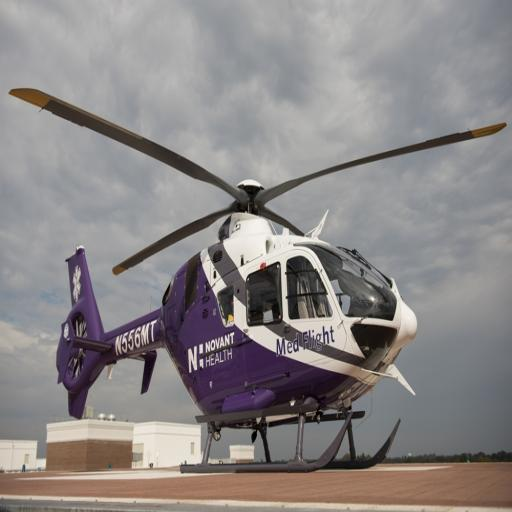helicopter: (11, 90, 509, 470)
